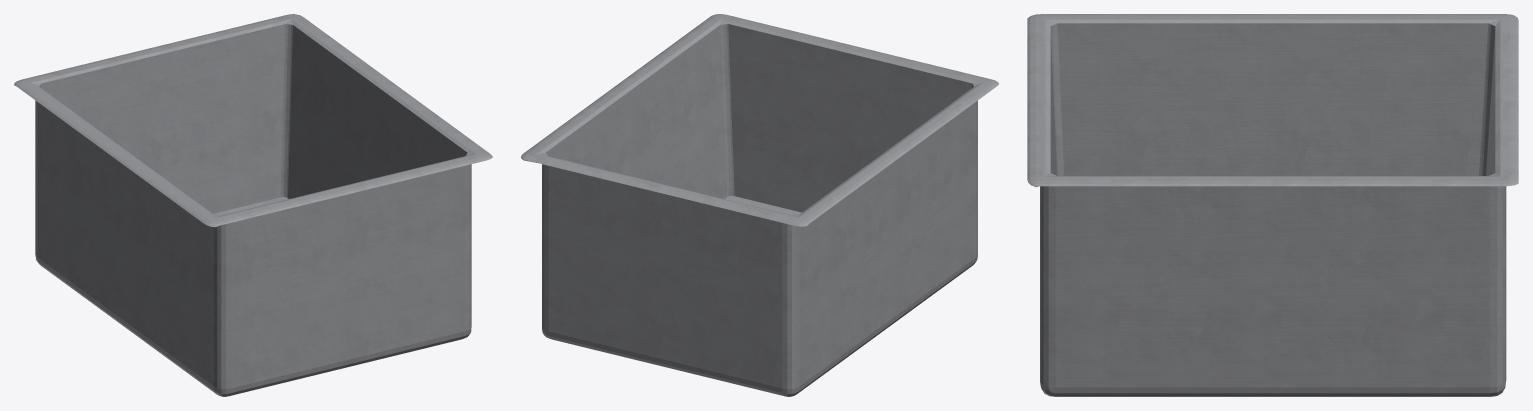
File: SINK_14.glb
3 renders of one model, left to right at view 1: azimuth 30°, elevation 25°; view 2: azimuth 150°, elevation 25°; view 3: azimuth 270°, elevation 25°, orthographic. The views are drawn at different scales.
Parts seen in each view (by area): view 1: KBX11028; view 2: KBX11028; view 3: KBX11028.
Boxes of the visible parts, x1,y1,x2,y2 form: KBX11028: [14, 14, 492, 396]; KBX11028: [521, 14, 998, 396]; KBX11028: [1027, 14, 1518, 396].
Size of the model in its own units: 356 by 218 by 428.
2 materials, 1 textured.
